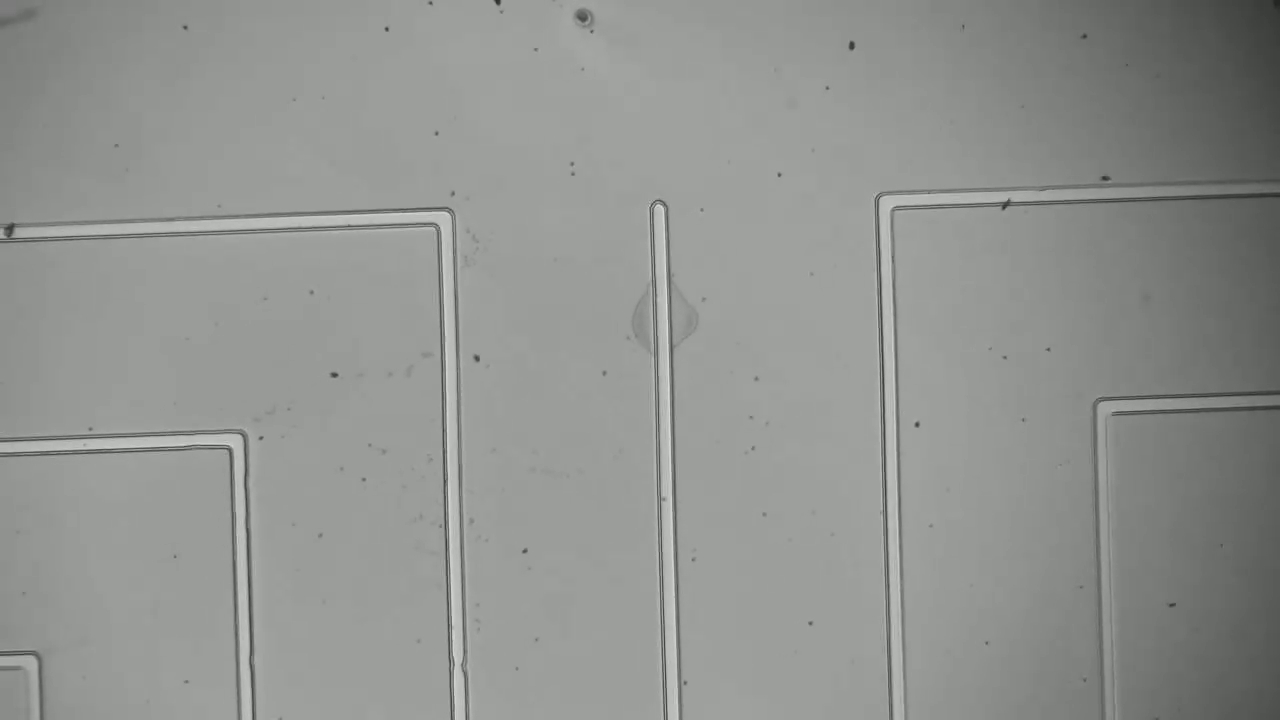edge_bite: (442, 649, 482, 682)
stains_enbedded: (994, 180, 1022, 218), (1, 217, 26, 249)
